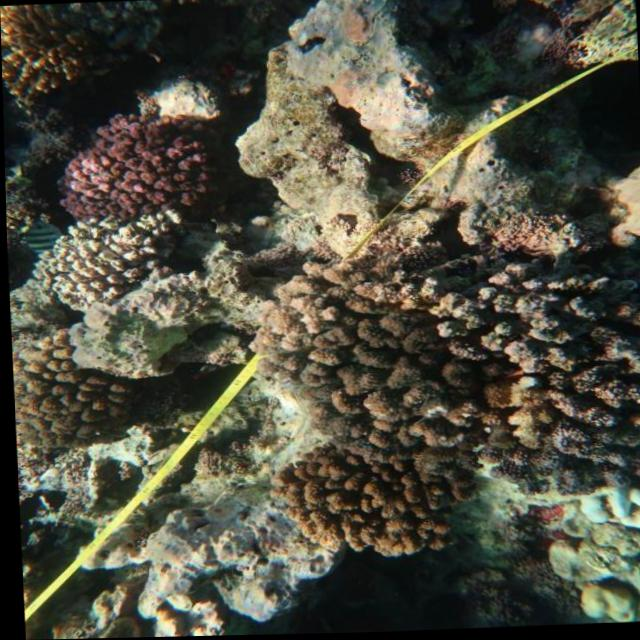Bleached Coral: (39, 224, 171, 308)
Dead Coral: (279, 278, 475, 451), (504, 275, 640, 475)
Healthy Coral: (59, 108, 229, 221), (282, 451, 447, 564), (9, 349, 123, 457), (0, 3, 81, 98)
